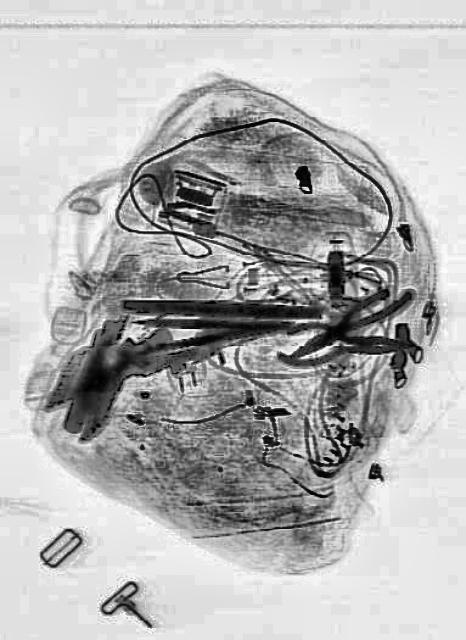Pliers: (286, 272, 412, 370), (276, 318, 410, 369)
